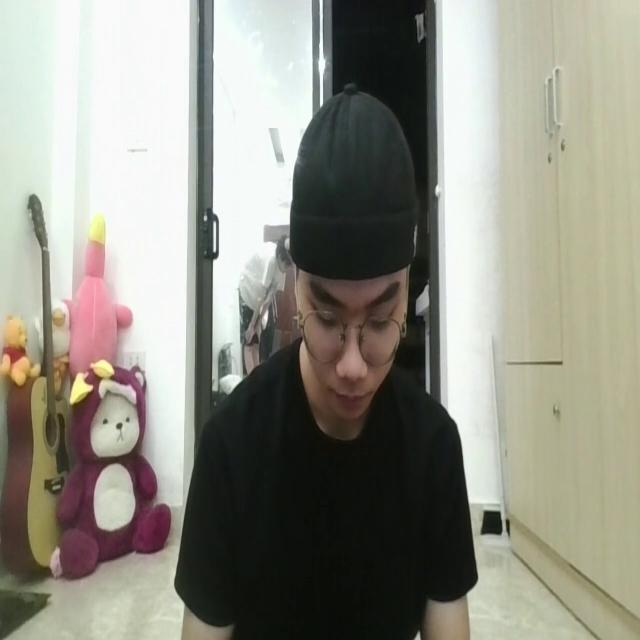student: (174, 77, 478, 640)
